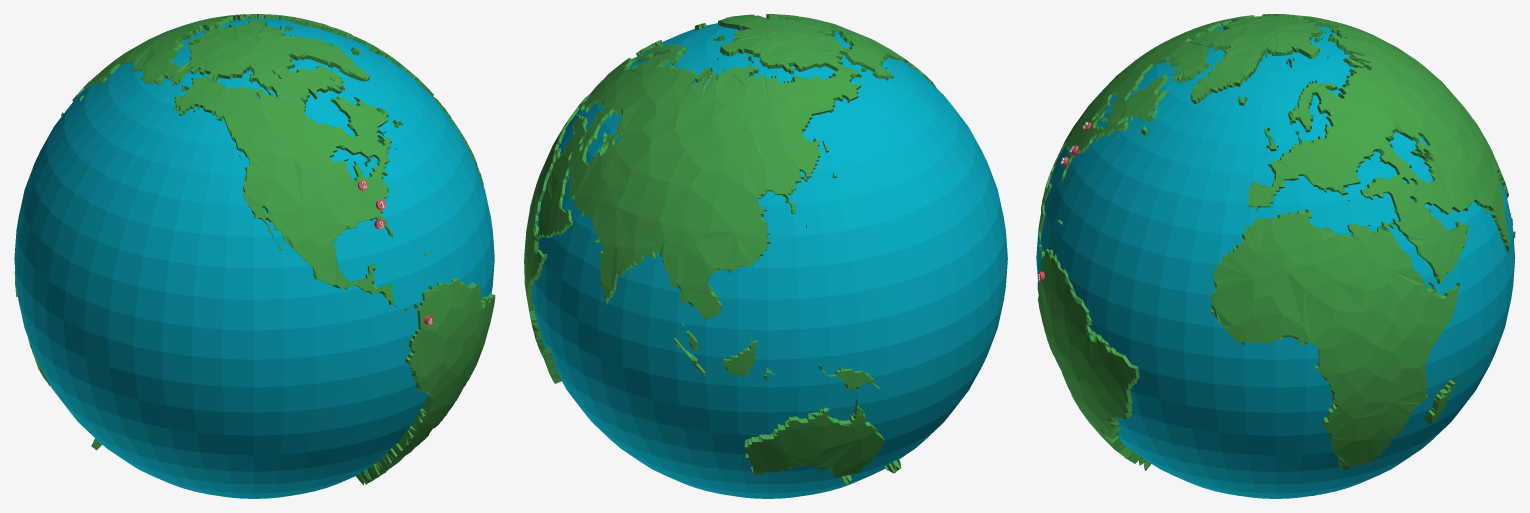
The model's file is Globe2.glb.
The picture shows the model from 3 angles, left to right: view 1: azimuth 30°, elevation 25°; view 2: azimuth 150°, elevation 25°; view 3: azimuth 270°, elevation 25°; orthographic projection.
Visible parts, largest first — view 1: Mesh_Mesh_head_geo.001_lambert2SG.001; view 2: Mesh_Mesh_head_geo.001_lambert2SG.001; view 3: Mesh_Mesh_head_geo.001_lambert2SG.001.
Boxes of the visible parts, bbox=[...] form: Mesh_Mesh_head_geo.001_lambert2SG.001: bbox=[14, 14, 495, 498]; Mesh_Mesh_head_geo.001_lambert2SG.001: bbox=[524, 14, 1007, 498]; Mesh_Mesh_head_geo.001_lambert2SG.001: bbox=[1036, 14, 1515, 498].
Bounding box in the file's own units: 146 × 147 × 145.
